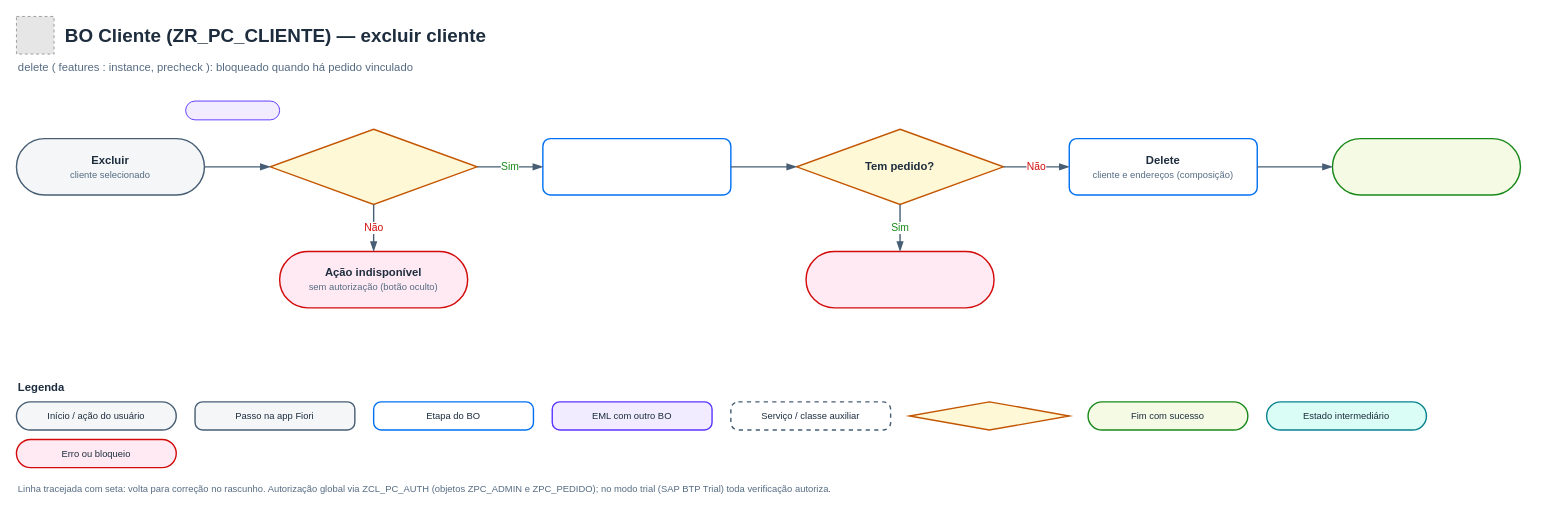
This 1556x531 diagram has some shape labels left out. Grey dashed boxes stand in for pictures. Here are the shapes that lost their labels. From the top down, the centre of each, then its label:
At (232,110): "Authorization".
At (373,166): "Autorizado? ZPC_ADMIN · excluir".
At (636,166): "Instance features e precheck procura pedidos ativos e em rascunho do cliente".
At (1426,166): "Cliente excluído".
At (899,279): "Exclusão bloqueada CLIENTE_COM_PEDIDO".
At (989,415): "Decisão".
